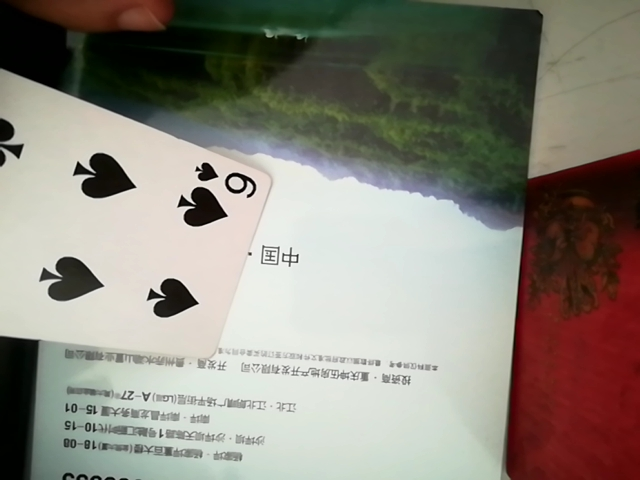ht 6: (0, 61, 269, 363)
